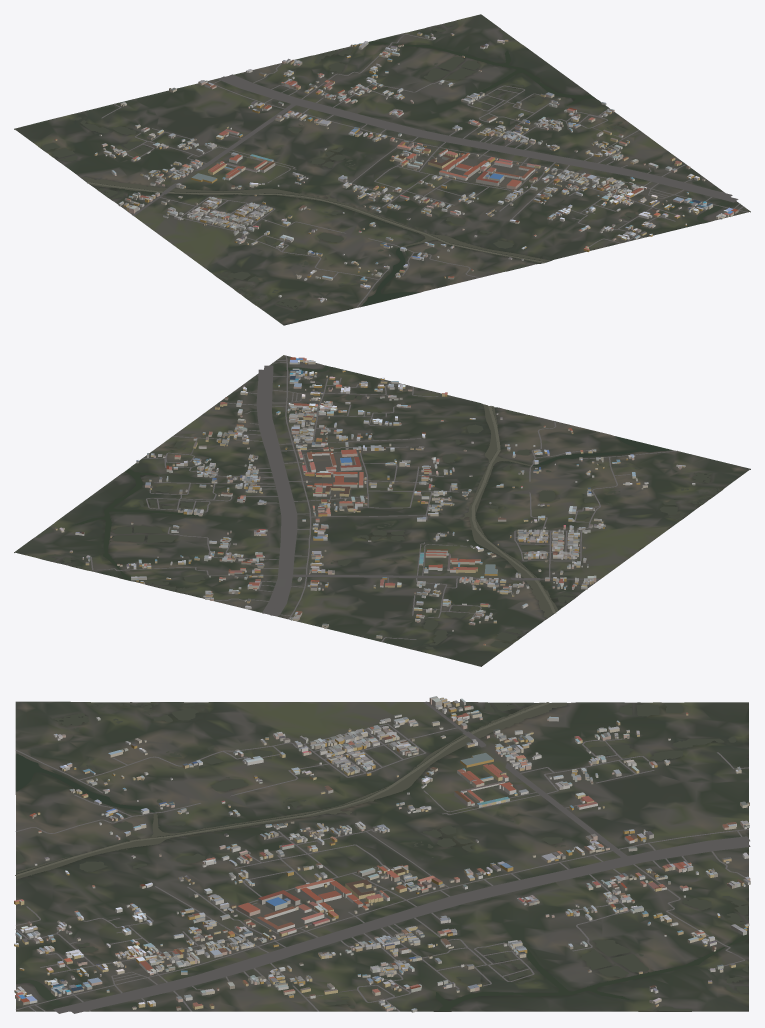
The picture shows the model from 3 angles, top to bottom: view 1: azimuth 30°, elevation 25°; view 2: azimuth 150°, elevation 25°; view 3: azimuth 270°, elevation 25°; orthographic projection. The views are drawn at different scales.
Visible parts, largest first — view 1: ground, buildings, roads, water; view 2: ground, buildings, roads, water; view 3: ground, buildings, roads, water.
Part boxes in pixels (x1,y1,x2,y2): ground: (14, 14, 750, 325); buildings: (54, 32, 738, 302); roads: (101, 34, 748, 307); water: (41, 21, 728, 309); ground: (14, 355, 750, 666); buildings: (55, 357, 695, 645); roads: (90, 355, 677, 641); water: (35, 365, 720, 649); ground: (15, 701, 748, 1011); buildings: (14, 696, 750, 1012); roads: (15, 701, 750, 1013); water: (15, 702, 748, 1011).
Bounding box in the file's own units: 1415 × 17.73 × 1408.
